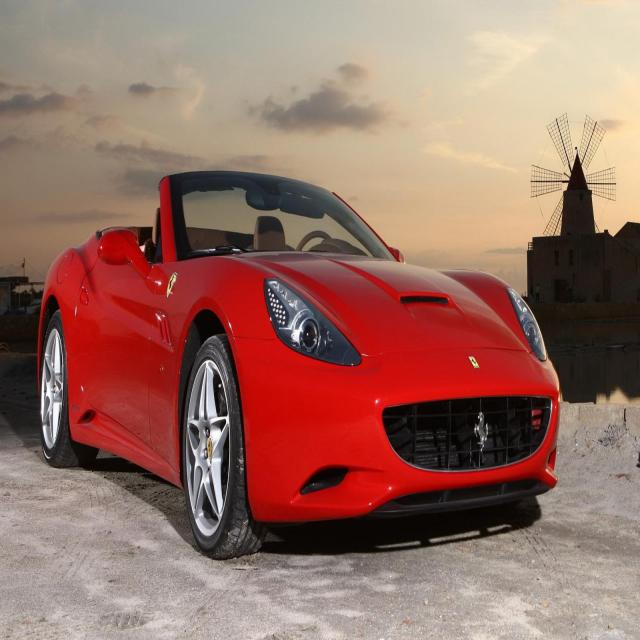Car: (13, 146, 573, 571)
